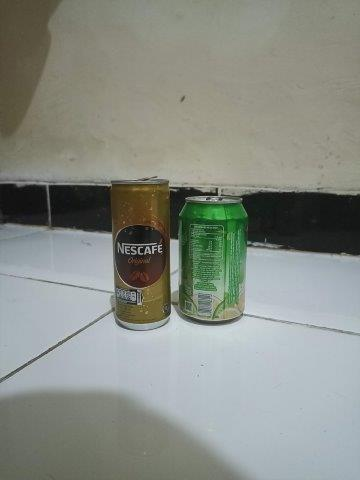kaleng: (111, 175, 171, 330), (178, 195, 248, 327)
